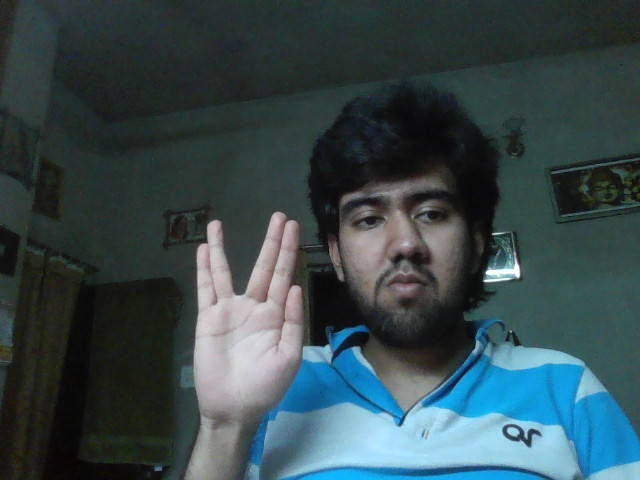LiveLong: (194, 211, 304, 420)
